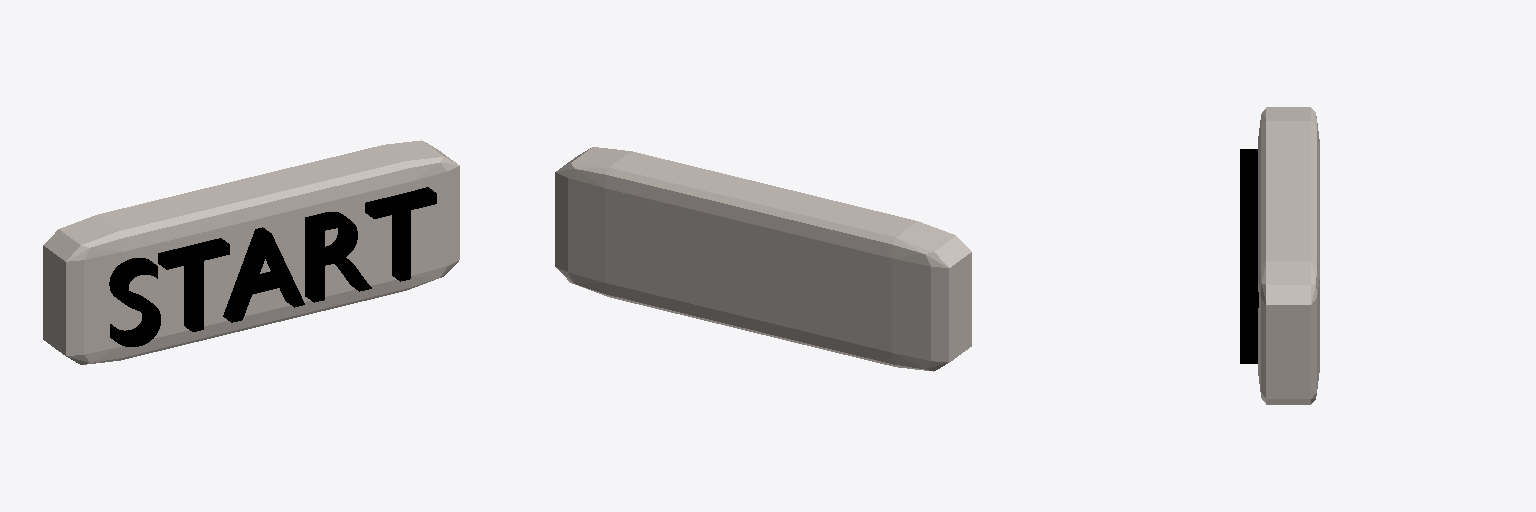
The model's file is start.obj.
3 renders of one model, left to right at view 1: azimuth 30°, elevation 25°; view 2: azimuth 150°, elevation 25°; view 3: azimuth 270°, elevation 25°, orthographic.
Visible parts, largest first — view 1: Cube, Text; view 2: Cube; view 3: Cube, Text.
Part boxes in pixels (bbox=[...]): Cube: bbox=[43, 140, 459, 364]; Text: bbox=[109, 187, 436, 346]; Cube: bbox=[555, 147, 971, 371]; Cube: bbox=[1258, 107, 1319, 404]; Text: bbox=[1240, 149, 1258, 363].
Bounding box in the file's own units: 3.56 × 1.12 × 0.618.